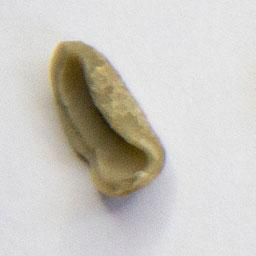defect: (46, 37, 168, 200)
